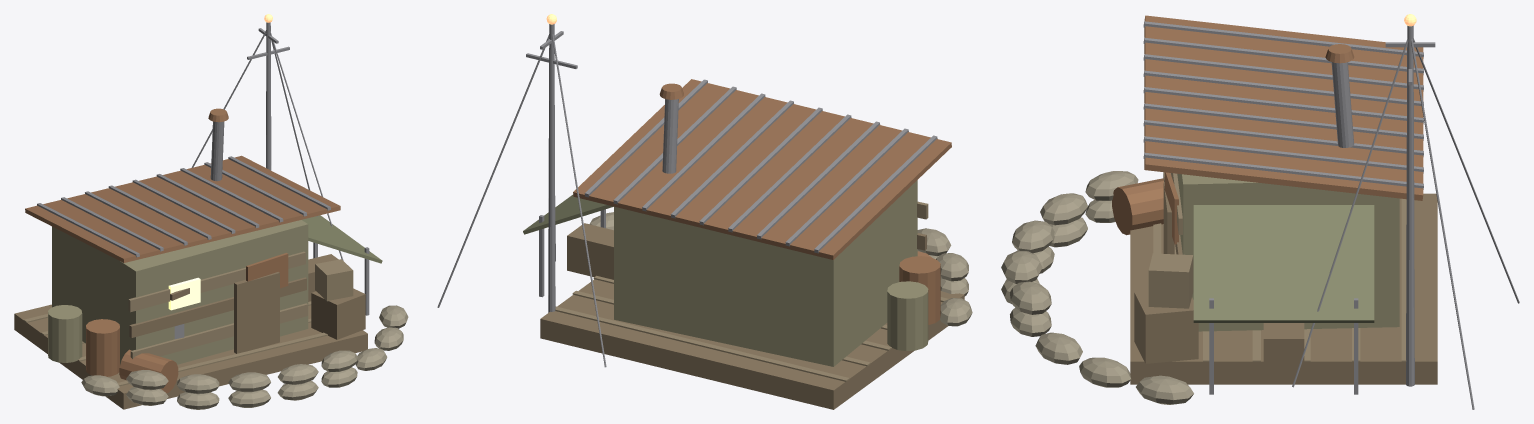
Rendered from hq_ashfall.glb.
The picture shows the model from 3 angles, left to right: view 1: azimuth 30°, elevation 25°; view 2: azimuth 150°, elevation 25°; view 3: azimuth 270°, elevation 25°; orthographic projection. The views are drawn at different scales.
Parts seen in each view (by area): view 1: AF_Shack, AF_Roof, AF_Platform, AF_Door, AF_Crate1, AF_Barrel2, AF_Barrel1, AF_Siding.001, AF_Siding, AF_Siding.002, AF_Tarp, AF_Crate2 (+31 smaller); view 2: AF_Shack, AF_Roof, AF_Platform, AF_Barrel2, AF_Bench, AF_Mast, AF_Plank.005, AF_Barrel1, AF_Tarp, AF_StovePipe, AF_RoofRib, AF_RoofRib.001 (+12 smaller); view 3: AF_Roof, AF_Tarp, AF_Platform, AF_Shack, AF_Crate1, AF_Mast, AF_Crate2, AF_Bench, AF_BarrelTipped, AF_RoofRib.008, AF_RoofRib.007, AF_StovePipe (+24 smaller).
Boxes of the visible parts, <box> form: AF_Shack: <box>52,220,308,364</box>; AF_Roof: <box>25,155,340,262</box>; AF_Platform: <box>14,304,367,409</box>; AF_Door: <box>234,272,279,353</box>; AF_Crate1: <box>311,288,365,339</box>; AF_Barrel2: <box>48,305,82,362</box>; AF_Barrel1: <box>86,319,119,376</box>; AF_Siding.001: <box>129,277,306,337</box>; AF_Siding: <box>130,303,307,358</box>; AF_Siding.002: <box>128,251,305,312</box>; AF_Tarp: <box>302,215,382,263</box>; AF_Crate2: <box>315,259,353,301</box>; AF_Shack: <box>614,180,917,366</box>; AF_Roof: <box>573,79,951,259</box>; AF_Platform: <box>540,279,964,409</box>; AF_Barrel2: <box>887,281,928,350</box>; AF_Bench: <box>567,223,613,279</box>; AF_Mast: <box>548,24,555,312</box>; AF_Plank.005: <box>555,306,849,381</box>; AF_Barrel1: <box>899,256,940,324</box>; AF_Tarp: <box>523,194,613,234</box>; AF_StovePipe: <box>662,99,678,173</box>; AF_RoofRib: <box>814,135,937,253</box>; AF_RoofRib.001: <box>785,128,908,246</box>; AF_Roof: <box>1144,15,1423,200</box>; AF_Tarp: <box>1193,205,1374,322</box>; AF_Platform: <box>1130,193,1437,384</box>; AF_Shack: <box>1177,173,1399,331</box>; AF_Crate1: <box>1134,291,1198,363</box>; AF_Mast: <box>1406,25,1414,386</box>; AF_Crate2: <box>1148,253,1193,308</box>; AF_Bench: <box>1263,323,1304,379</box>; AF_BarrelTipped: <box>1112,178,1163,235</box>; AF_RoofRib.008: <box>1143,152,1423,189</box>; AF_RoofRib.007: <box>1143,136,1423,173</box>; AF_StovePipe: <box>1331,62,1354,147</box>.
Size of the model in its own units: 6.09 by 4.52 by 5.74.
